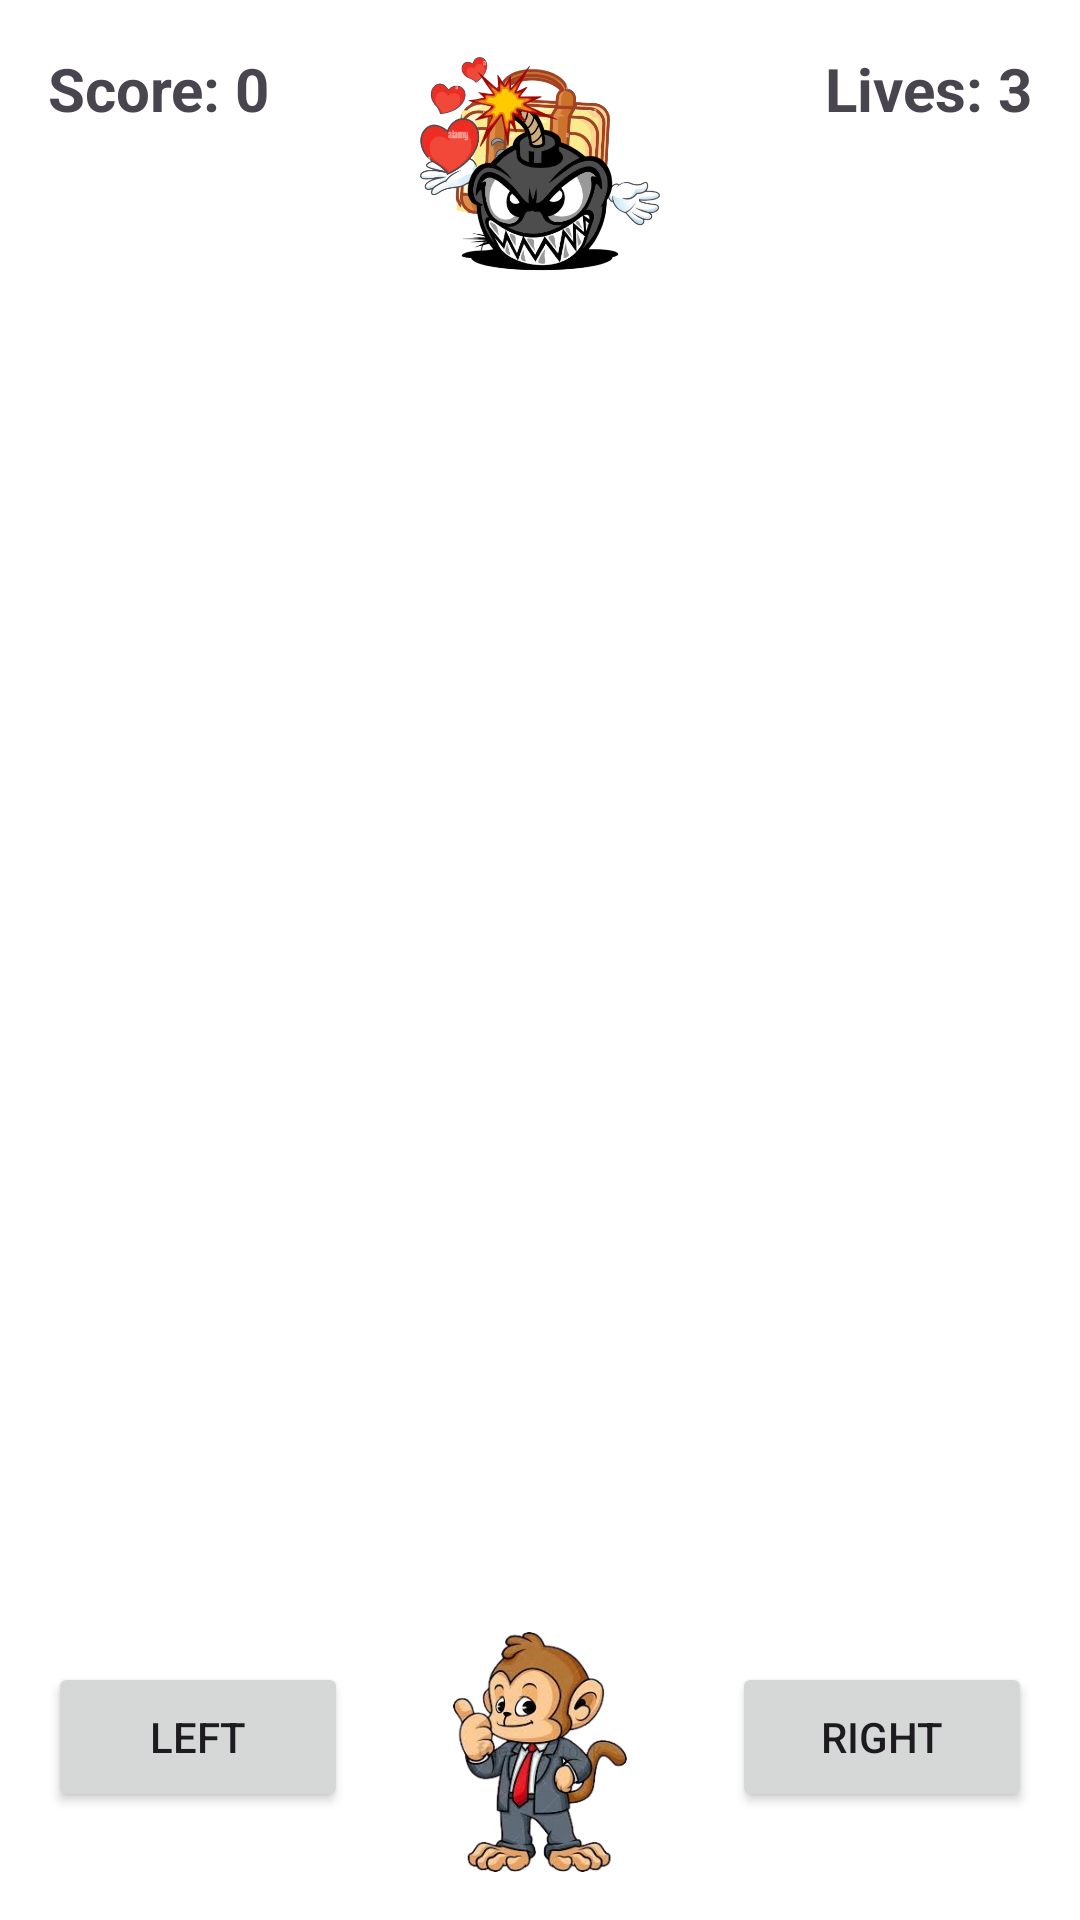

Screen size 1080 x 1920. Icon name, then its center in pixels as (x,y):
monkey: (540,1752)
